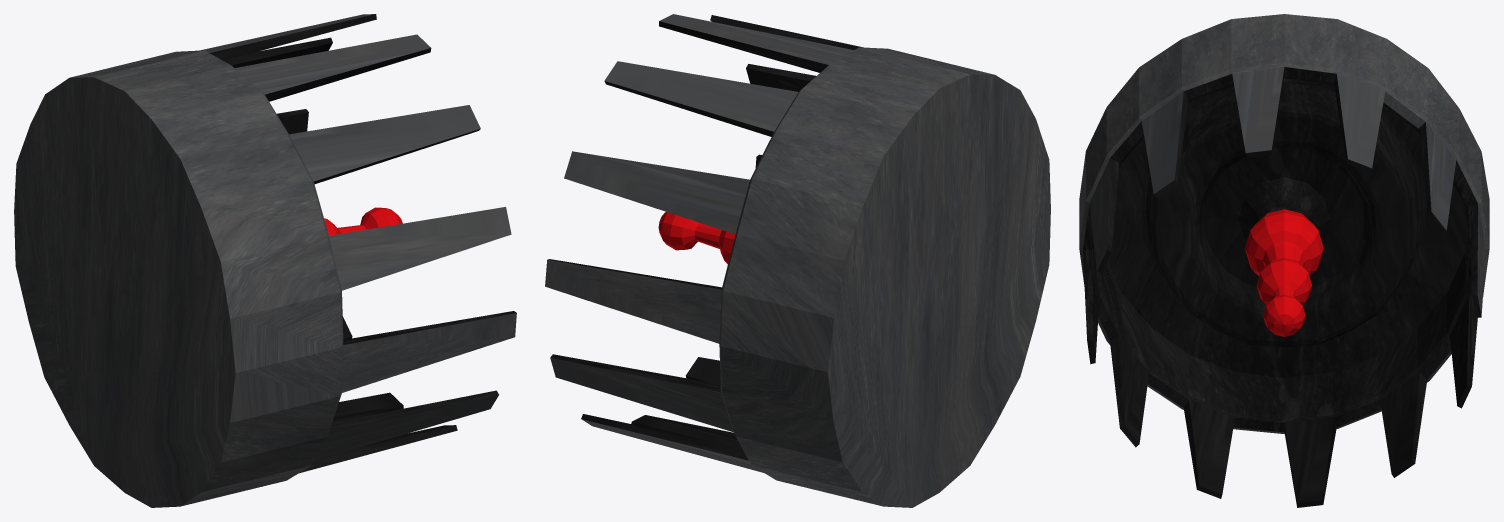
The model's file is Emissor 1.fbx.
3 renders of one model, left to right at view 1: azimuth 30°, elevation 25°; view 2: azimuth 150°, elevation 25°; view 3: azimuth 270°, elevation 25°, orthographic. The views are drawn at different scales.
Parts seen in each view (by area): view 1: Emissor; view 2: Emissor; view 3: Emissor.
Boxes of the visible parts, <box> form: Emissor: <box>14,14,516,507</box>; Emissor: <box>545,14,1050,507</box>; Emissor: <box>1079,14,1489,507</box>.
Bounding box in the file's own units: 0.5994 × 0.8 × 0.8.
3 materials, 3 textured.
